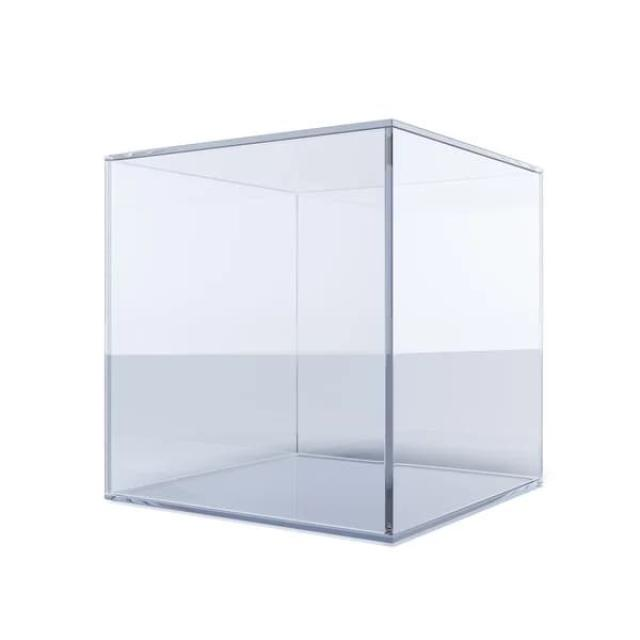glass: (59, 87, 572, 574)
